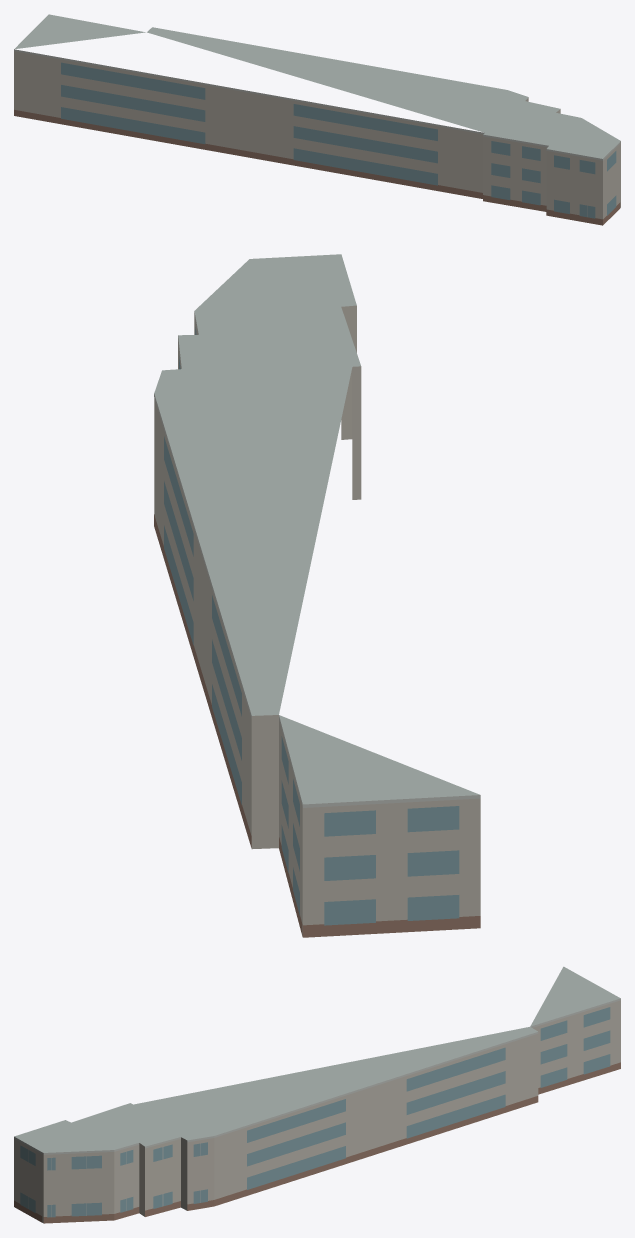
Rendered from survey-upis-32954544.glb.
3 renders of one model, top to bottom at view 1: azimuth 30°, elevation 25°; view 2: azimuth 150°, elevation 25°; view 3: azimuth 270°, elevation 25°, orthographic. The views are drawn at different scales.
Parts seen in each view (by area): view 1: survey-upis-32954544.tmp; view 2: survey-upis-32954544.tmp; view 3: survey-upis-32954544.tmp.
Boxes of the visible parts, bbox=[...] form: survey-upis-32954544.tmp: bbox=[14, 14, 620, 225]; survey-upis-32954544.tmp: bbox=[154, 254, 480, 937]; survey-upis-32954544.tmp: bbox=[14, 966, 620, 1223].
Bounding box in the file's own units: 51.94 × 9.15 × 71.39.
